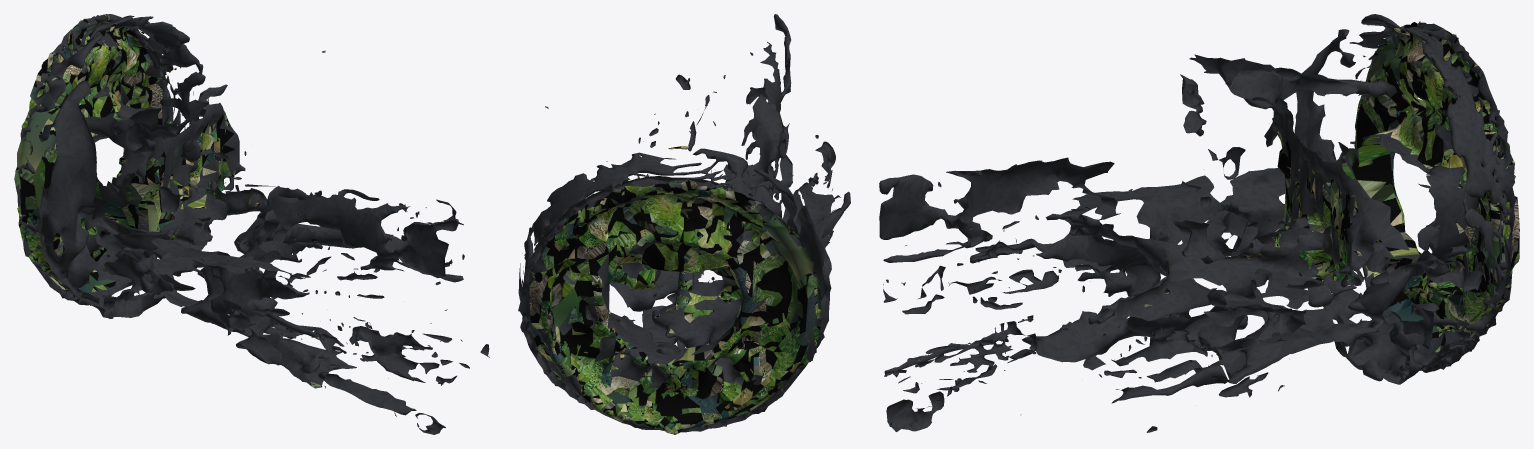
Rendered from Nvg_melbourne_selfie_lowpoly.obj.
3 renders of one model, left to right at view 1: azimuth 30°, elevation 25°; view 2: azimuth 150°, elevation 25°; view 3: azimuth 270°, elevation 25°, orthographic. The views are drawn at different scales.
Size of the model in its own units: 3.18 by 2.98 by 5.12.
